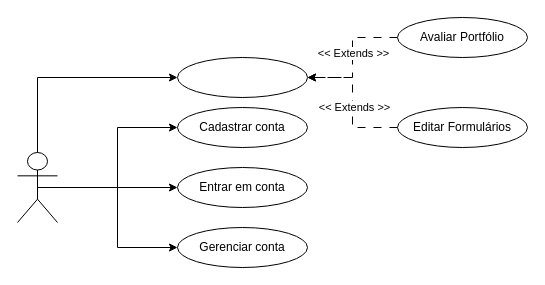
Image size: 545x285. Some labels were removed from this diagram. The shapes that lost their labels are listed below. From the top down, each one's centre as x and y in pixels, then its label:
At (x=242, y=77): "Visualizar Portfólio".
At (x=37, y=187): "Usuário".
